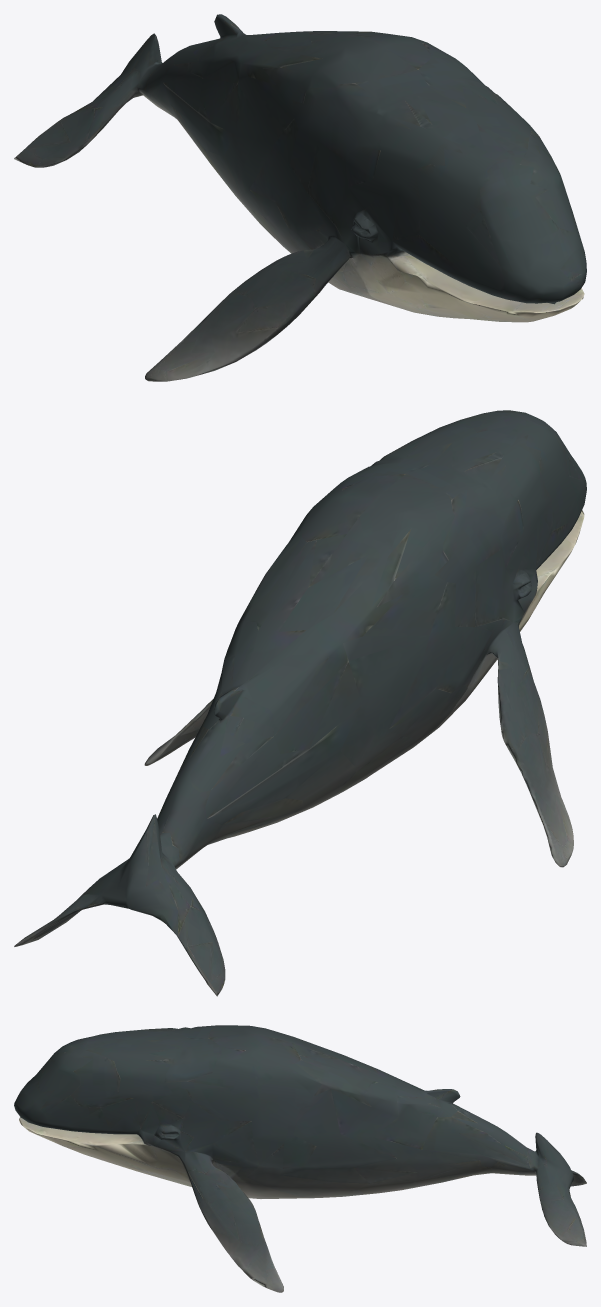
3 renders of one model, top to bottom at view 1: azimuth 30°, elevation 25°; view 2: azimuth 150°, elevation 25°; view 3: azimuth 270°, elevation 25°, orthographic. The views are drawn at different scales.
Size of the model in its own units: 1.03 by 0.7082 by 1.9.
Materials: 1 (1 with a texture image).
